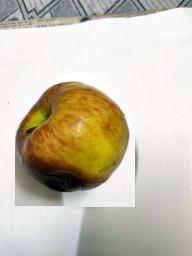Apple Semirotten: (15, 82, 135, 208)
